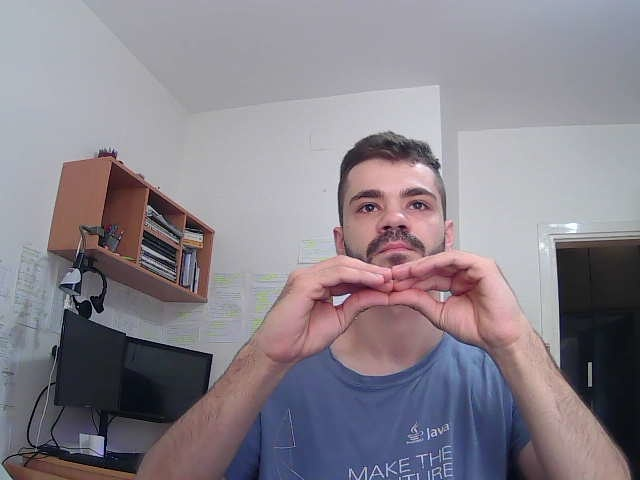b: (247, 239, 561, 366)
